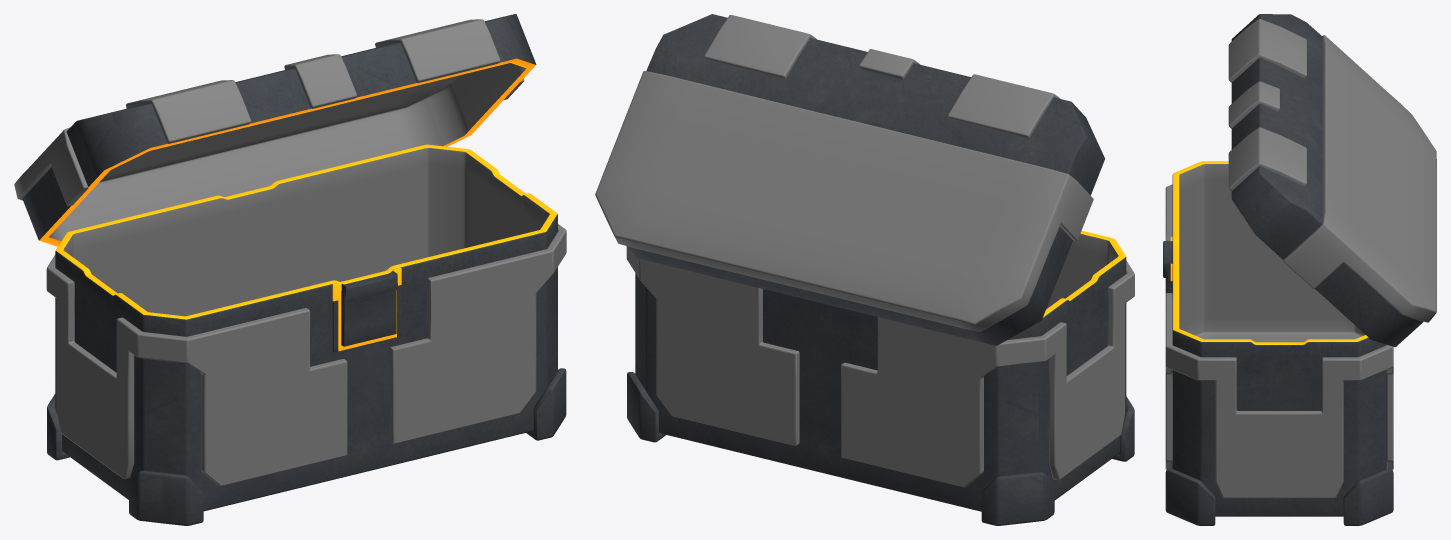
The model's file is chest.glb.
3 views of the same model, side by side, from view 1: azimuth 30°, elevation 25°; view 2: azimuth 150°, elevation 25°; view 3: azimuth 270°, elevation 25° (orthographic). The views are drawn at different scales.
Visible parts, largest first — view 1: chest, chest_decals, cover_decals, cover, chest_corners, chest_lock; view 2: cover, chest_decals, chest, cover_decals, chest_corners; view 3: chest, cover, chest_decals, cover_decals, chest_corners, chest_lock.
Boxes of the visible parts, bbox=[...] form: chest: bbox=[55, 144, 557, 511]; chest_decals: bbox=[46, 224, 566, 486]; cover_decals: bbox=[22, 14, 536, 246]; cover: bbox=[14, 19, 524, 206]; chest_corners: bbox=[47, 368, 566, 525]; chest_lock: bbox=[332, 267, 401, 352]; cover: bbox=[595, 15, 1093, 331]; chest_decals: bbox=[626, 247, 1134, 487]; chest: bbox=[635, 230, 1126, 511]; cover_decals: bbox=[626, 14, 1104, 345]; chest_corners: bbox=[627, 372, 1134, 525]; chest: bbox=[1172, 161, 1386, 516]; cover: bbox=[1228, 19, 1436, 322]; chest_decals: bbox=[1165, 184, 1393, 498]; cover_decals: bbox=[1231, 14, 1423, 347]; chest_corners: bbox=[1165, 468, 1393, 525]; chest_lock: bbox=[1163, 236, 1172, 293].
Bounding box in the file's own units: 0.6376 × 0.5303 × 0.384.
3 materials, 1 textured.
